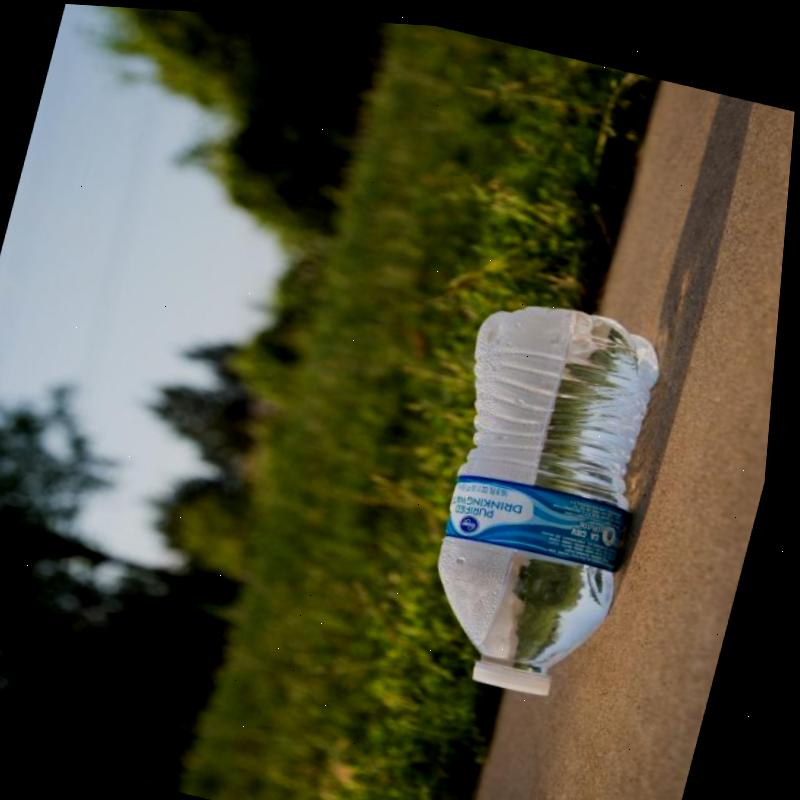botella: (397, 280, 695, 705)
